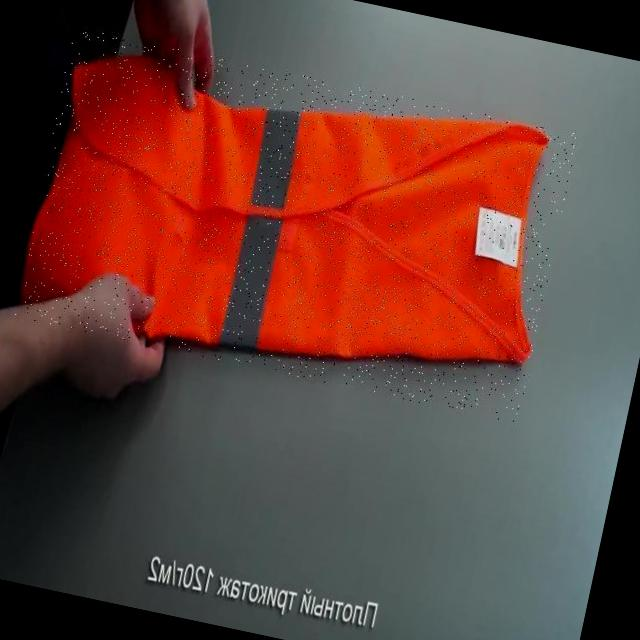no-gloves: (12, 256, 180, 413), (84, 0, 231, 109)
vest: (12, 26, 578, 424)
